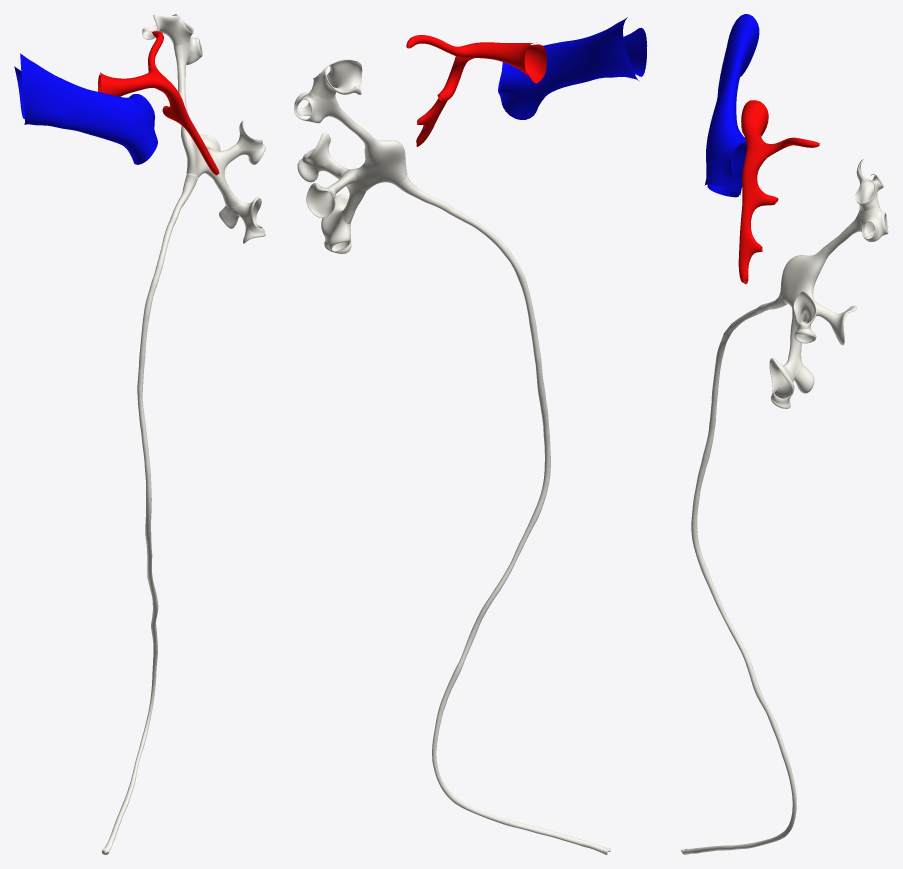
File: 3d-vh-f-kidney-l-landmark.glb
3 views of the same model, side by side, from view 1: azimuth 30°, elevation 25°; view 2: azimuth 150°, elevation 25°; view 3: azimuth 270°, elevation 25° (orthographic). The views are drawn at different scales.
Visible parts, largest first — view 1: VH_F_kidney_L_landmark_renal_vein, VH_F_kidney_L_landmark_left_ureter, VH_F_kidney_L_landmark_minor_calyxes, VH_F_kidney_L_landmark_renal_artery, VH_F_kidney_L_landmark_major_calyxes, VH_F_kidney_L_landmark_renal_pelvis; view 2: VH_F_kidney_L_landmark_renal_vein, VH_F_kidney_L_landmark_left_ureter, VH_F_kidney_L_landmark_minor_calyxes, VH_F_kidney_L_landmark_renal_artery, VH_F_kidney_L_landmark_renal_pelvis, VH_F_kidney_L_landmark_major_calyxes; view 3: VH_F_kidney_L_landmark_renal_vein, VH_F_kidney_L_landmark_minor_calyxes, VH_F_kidney_L_landmark_left_ureter, VH_F_kidney_L_landmark_renal_artery, VH_F_kidney_L_landmark_renal_pelvis, VH_F_kidney_L_landmark_major_calyxes.
Part boxes in pixels (x1,y1,x2,y2): VH_F_kidney_L_landmark_renal_vein: [14, 53, 157, 164]; VH_F_kidney_L_landmark_left_ureter: [102, 174, 197, 854]; VH_F_kidney_L_landmark_minor_calyxes: [142, 14, 265, 243]; VH_F_kidney_L_landmark_renal_artery: [98, 31, 219, 175]; VH_F_kidney_L_landmark_major_calyxes: [174, 42, 241, 209]; VH_F_kidney_L_landmark_renal_pelvis: [181, 102, 213, 178]; VH_F_kidney_L_landmark_renal_vein: [498, 17, 647, 119]; VH_F_kidney_L_landmark_left_ureter: [397, 175, 610, 854]; VH_F_kidney_L_landmark_minor_calyxes: [294, 59, 362, 253]; VH_F_kidney_L_landmark_renal_artery: [406, 35, 546, 146]; VH_F_kidney_L_landmark_renal_pelvis: [356, 132, 407, 191]; VH_F_kidney_L_landmark_major_calyxes: [324, 97, 368, 223]; VH_F_kidney_L_landmark_renal_vein: [704, 14, 759, 197]; VH_F_kidney_L_landmark_minor_calyxes: [769, 159, 888, 408]; VH_F_kidney_L_landmark_left_ureter: [680, 293, 796, 854]; VH_F_kidney_L_landmark_renal_artery: [738, 100, 819, 284]; VH_F_kidney_L_landmark_renal_pelvis: [780, 245, 830, 319]; VH_F_kidney_L_landmark_major_calyxes: [788, 209, 867, 361].
Bounding box in the file's own units: 0.1045 × 0.2832 × 0.0657.
